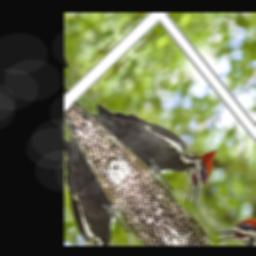Woodpecker: (89, 58, 234, 223)
